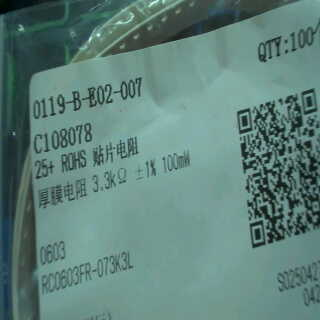3.3kO: (92, 167, 131, 198)
